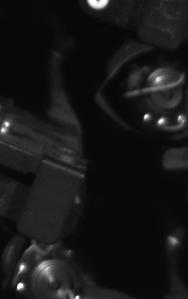fiber: (83, 1, 114, 17)
